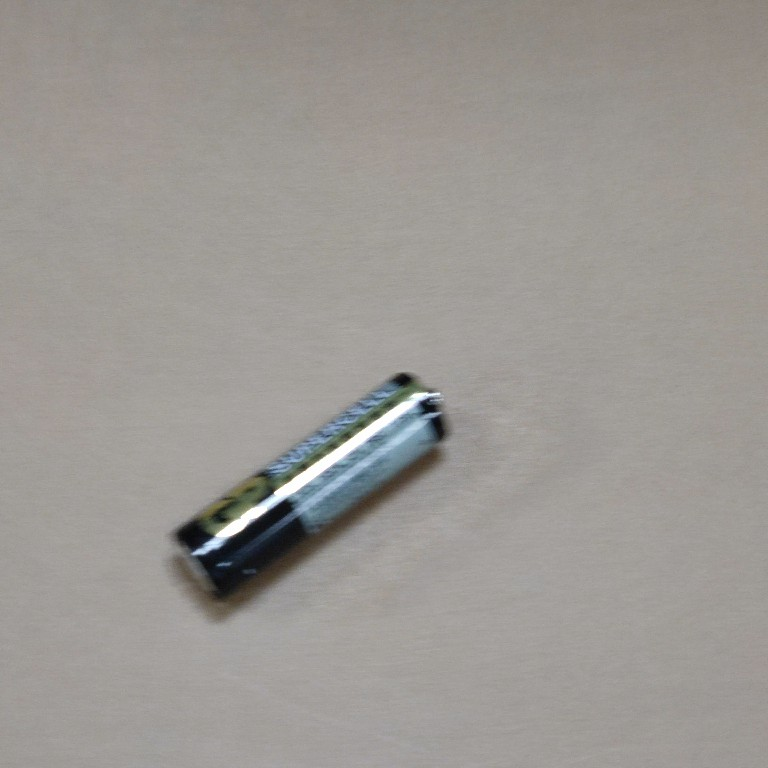charge: (167, 362, 452, 607)
